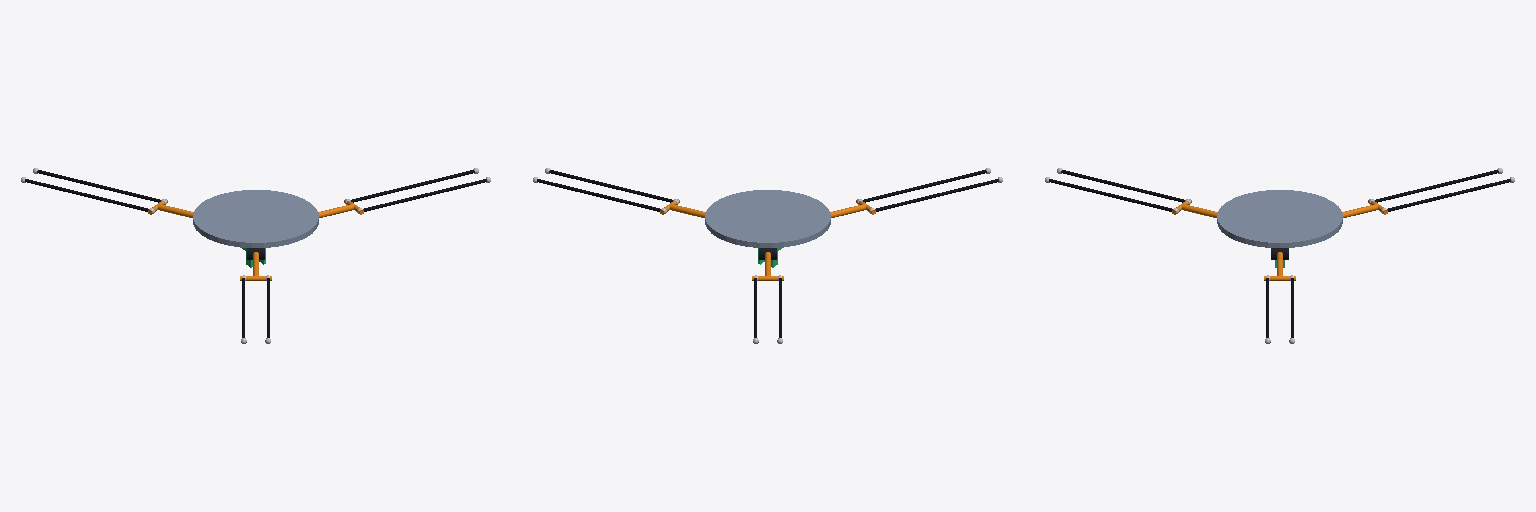
URDF robot description (delta_robot):
<?xml version="1.0"?>
<!-- generated by deltarobot.urdf — R=0.1 r=0.035 L=0.13 l=0.3 w=0.05 motor=dxl_xm430_w350 tool=gripper_servo -->
<robot name="delta_robot">
  <material name="frame"><color rgba="0.55 0.6 0.68 1"/></material>
  <material name="motor"><color rgba="0.15 0.17 0.2 1"/></material>
  <material name="arm"><color rgba="0.9 0.55 0.15 1"/></material>
  <material name="rod"><color rgba="0.12 0.12 0.14 1"/></material>
  <material name="joint"><color rgba="0.75 0.78 0.82 1"/></material>
  <material name="plate"><color rgba="0.25 0.55 0.9 1"/></material>
  <material name="tool"><color rgba="0.2 0.75 0.5 1"/></material>
  <link name="base_link">
    <visual>
      <origin xyz="0 0 0.026" rpy="0 0 0"/>
      <geometry><cylinder radius="0.128" length="0.012"/></geometry>
      <material name="frame"/>
    </visual>
    <visual>
      <origin xyz="0.1 0 0" rpy="1.570796 0 0"/>
      <geometry><cylinder radius="0.018" length="0.035"/></geometry>
      <material name="motor"/>
    </visual>
    <visual>
      <origin xyz="-0.05 0.086603 0" rpy="1.570796 0 2.094395"/>
      <geometry><cylinder radius="0.018" length="0.035"/></geometry>
      <material name="motor"/>
    </visual>
    <visual>
      <origin xyz="-0.05 -0.086603 0" rpy="1.570796 0 4.18879"/>
      <geometry><cylinder radius="0.018" length="0.035"/></geometry>
      <material name="motor"/>
    </visual>
    <inertial>
      <origin xyz="0 0 0.02" rpy="0 0 0"/>
      <mass value="0.746"/>
      <inertia ixx="0.01" ixy="0" ixz="0" iyy="0.01" iyz="0" izz="0.02"/>
    </inertial>
  </link>
  <joint name="motor1_joint" type="revolute">
    <parent link="base_link"/>
    <child link="upper_arm1"/>
    <origin xyz="0.1 0 0" rpy="0 0 0"/>
    <axis xyz="0 1 0"/>
    <limit lower="-0.7" upper="1.5" effort="4.1" velocity="4.8"/>
  </joint>
  <link name="upper_arm1">
    <visual>
      <origin xyz="0.065 0 0" rpy="0 1.570796 0"/>
      <geometry><cylinder radius="0.0065" length="0.13"/></geometry>
      <material name="arm"/>
    </visual>
    <visual>
      <origin xyz="0.13 0 0" rpy="1.570796 0 0"/>
      <geometry><cylinder radius="0.0052" length="0.063"/></geometry>
      <material name="arm"/>
    </visual>
    <inertial>
      <origin xyz="0.065 0 0" rpy="0 0 0"/>
      <mass value="0.04434"/>
      <inertia ixx="0.00001" ixy="0" ixz="0" iyy="0.000045" iyz="0" izz="0.000045"/>
    </inertial>
  </link>
  <joint name="elbow1a_pitch" type="revolute">
    <parent link="upper_arm1"/>
    <child link="elbow1a_link"/>
    <origin xyz="0.13 0.025 0" rpy="0 0 0"/>
    <axis xyz="0 1 0"/>
    <limit lower="-3.141593" upper="3.141593" effort="0" velocity="0"/>
  </joint>
  <link name="elbow1a_link"/>
  <joint name="elbow1a_yaw" type="revolute">
    <parent link="elbow1a_link"/>
    <child link="forearm1a"/>
    <origin xyz="0 0 0" rpy="0 0 0"/>
    <axis xyz="0 0 1"/>
    <limit lower="-1.570796" upper="1.570796" effort="0" velocity="0"/>
  </joint>
  <link name="forearm1a">
    <visual>
      <origin xyz="0.15 0 0" rpy="0 1.570796 0"/>
      <geometry><cylinder radius="0.0036" length="0.3"/></geometry>
      <material name="rod"/>
    </visual>
    <visual>
      <origin xyz="0 0 0" rpy="0 0 0"/>
      <geometry><sphere radius="0.00648"/></geometry>
      <material name="joint"/>
    </visual>
    <visual>
      <origin xyz="0.3 0 0" rpy="0 0 0"/>
      <geometry><sphere radius="0.00648"/></geometry>
      <material name="joint"/>
    </visual>
    <inertial>
      <origin xyz="0.15 0 0" rpy="0 0 0"/>
      <mass value="0.0215"/>
      <inertia ixx="0.000001" ixy="0" ixz="0" iyy="0.000161" iyz="0" izz="0.000161"/>
    </inertial>
  </link>
  <joint name="elbow1b_pitch" type="revolute">
    <parent link="upper_arm1"/>
    <child link="elbow1b_link"/>
    <origin xyz="0.13 -0.025 0" rpy="0 0 0"/>
    <axis xyz="0 1 0"/>
    <limit lower="-3.141593" upper="3.141593" effort="0" velocity="0"/>
    <mimic joint="elbow1a_pitch" multiplier="1" offset="0"/>
  </joint>
  <link name="elbow1b_link"/>
  <joint name="elbow1b_yaw" type="revolute">
    <parent link="elbow1b_link"/>
    <child link="forearm1b"/>
    <origin xyz="0 0 0" rpy="0 0 0"/>
    <axis xyz="0 0 1"/>
    <limit lower="-1.570796" upper="1.570796" effort="0" velocity="0"/>
    <mimic joint="elbow1a_yaw" multiplier="1" offset="0"/>
  </joint>
  <link name="forearm1b">
    <visual>
      <origin xyz="0.15 0 0" rpy="0 1.570796 0"/>
      <geometry><cylinder radius="0.0036" length="0.3"/></geometry>
      <material name="rod"/>
    </visual>
    <visual>
      <origin xyz="0 0 0" rpy="0 0 0"/>
      <geometry><sphere radius="0.00648"/></geometry>
      <material name="joint"/>
    </visual>
    <visual>
      <origin xyz="0.3 0 0" rpy="0 0 0"/>
      <geometry><sphere radius="0.00648"/></geometry>
      <material name="joint"/>
    </visual>
    <inertial>
      <origin xyz="0.15 0 0" rpy="0 0 0"/>
      <mass value="0.0215"/>
      <inertia ixx="0.000001" ixy="0" ixz="0" iyy="0.000161" iyz="0" izz="0.000161"/>
    </inertial>
  </link>
  <joint name="motor2_joint" type="revolute">
    <parent link="base_link"/>
    <child link="upper_arm2"/>
    <origin xyz="-0.05 0.086603 0" rpy="0 0 2.094395"/>
    <axis xyz="0 1 0"/>
    <limit lower="-0.7" upper="1.5" effort="4.1" velocity="4.8"/>
  </joint>
  <link name="upper_arm2">
    <visual>
      <origin xyz="0.065 0 0" rpy="0 1.570796 0"/>
      <geometry><cylinder radius="0.0065" length="0.13"/></geometry>
      <material name="arm"/>
    </visual>
    <visual>
      <origin xyz="0.13 0 0" rpy="1.570796 0 0"/>
      <geometry><cylinder radius="0.0052" length="0.063"/></geometry>
      <material name="arm"/>
    </visual>
    <inertial>
      <origin xyz="0.065 0 0" rpy="0 0 0"/>
      <mass value="0.04434"/>
      <inertia ixx="0.00001" ixy="0" ixz="0" iyy="0.000045" iyz="0" izz="0.000045"/>
    </inertial>
  </link>
  <joint name="elbow2a_pitch" type="revolute">
    <parent link="upper_arm2"/>
    <child link="elbow2a_link"/>
    <origin xyz="0.13 0.025 0" rpy="0 0 0"/>
    <axis xyz="0 1 0"/>
    <limit lower="-3.141593" upper="3.141593" effort="0" velocity="0"/>
  </joint>
  <link name="elbow2a_link"/>
  <joint name="elbow2a_yaw" type="revolute">
    <parent link="elbow2a_link"/>
    <child link="forearm2a"/>
    <origin xyz="0 0 0" rpy="0 0 0"/>
    <axis xyz="0 0 1"/>
    <limit lower="-1.570796" upper="1.570796" effort="0" velocity="0"/>
  </joint>
  <link name="forearm2a">
    <visual>
      <origin xyz="0.15 0 0" rpy="0 1.570796 0"/>
      <geometry><cylinder radius="0.0036" length="0.3"/></geometry>
      <material name="rod"/>
    </visual>
    <visual>
      <origin xyz="0 0 0" rpy="0 0 0"/>
      <geometry><sphere radius="0.00648"/></geometry>
      <material name="joint"/>
    </visual>
    <visual>
      <origin xyz="0.3 0 0" rpy="0 0 0"/>
      <geometry><sphere radius="0.00648"/></geometry>
      <material name="joint"/>
    </visual>
    <inertial>
      <origin xyz="0.15 0 0" rpy="0 0 0"/>
      <mass value="0.0215"/>
      <inertia ixx="0.000001" ixy="0" ixz="0" iyy="0.000161" iyz="0" izz="0.000161"/>
    </inertial>
  </link>
  <joint name="elbow2b_pitch" type="revolute">
    <parent link="upper_arm2"/>
    <child link="elbow2b_link"/>
    <origin xyz="0.13 -0.025 0" rpy="0 0 0"/>
    <axis xyz="0 1 0"/>
    <limit lower="-3.141593" upper="3.141593" effort="0" velocity="0"/>
    <mimic joint="elbow2a_pitch" multiplier="1" offset="0"/>
  </joint>
  <link name="elbow2b_link"/>
  <joint name="elbow2b_yaw" type="revolute">
    <parent link="elbow2b_link"/>
    <child link="forearm2b"/>
    <origin xyz="0 0 0" rpy="0 0 0"/>
    <axis xyz="0 0 1"/>
    <limit lower="-1.570796" upper="1.570796" effort="0" velocity="0"/>
    <mimic joint="elbow2a_yaw" multiplier="1" offset="0"/>
  </joint>
  <link name="forearm2b">
    <visual>
      <origin xyz="0.15 0 0" rpy="0 1.570796 0"/>
      <geometry><cylinder radius="0.0036" length="0.3"/></geometry>
      <material name="rod"/>
    </visual>
    <visual>
      <origin xyz="0 0 0" rpy="0 0 0"/>
      <geometry><sphere radius="0.00648"/></geometry>
      <material name="joint"/>
    </visual>
    <visual>
      <origin xyz="0.3 0 0" rpy="0 0 0"/>
      <geometry><sphere radius="0.00648"/></geometry>
      <material name="joint"/>
    </visual>
    <inertial>
      <origin xyz="0.15 0 0" rpy="0 0 0"/>
      <mass value="0.0215"/>
      <inertia ixx="0.000001" ixy="0" ixz="0" iyy="0.000161" iyz="0" izz="0.000161"/>
    </inertial>
  </link>
  <joint name="motor3_joint" type="revolute">
    <parent link="base_link"/>
    <child link="upper_arm3"/>
    <origin xyz="-0.05 -0.086603 0" rpy="0 0 4.18879"/>
    <axis xyz="0 1 0"/>
    <limit lower="-0.7" upper="1.5" effort="4.1" velocity="4.8"/>
  </joint>
  <link name="upper_arm3">
    <visual>
      <origin xyz="0.065 0 0" rpy="0 1.570796 0"/>
      <geometry><cylinder radius="0.0065" length="0.13"/></geometry>
      <material name="arm"/>
    </visual>
    <visual>
      <origin xyz="0.13 0 0" rpy="1.570796 0 0"/>
      <geometry><cylinder radius="0.0052" length="0.063"/></geometry>
      <material name="arm"/>
    </visual>
    <inertial>
      <origin xyz="0.065 0 0" rpy="0 0 0"/>
      <mass value="0.04434"/>
      <inertia ixx="0.00001" ixy="0" ixz="0" iyy="0.000045" iyz="0" izz="0.000045"/>
    </inertial>
  </link>
  <joint name="elbow3a_pitch" type="revolute">
    <parent link="upper_arm3"/>
    <child link="elbow3a_link"/>
    <origin xyz="0.13 0.025 0" rpy="0 0 0"/>
    <axis xyz="0 1 0"/>
    <limit lower="-3.141593" upper="3.141593" effort="0" velocity="0"/>
  </joint>
  <link name="elbow3a_link"/>
  <joint name="elbow3a_yaw" type="revolute">
    <parent link="elbow3a_link"/>
    <child link="forearm3a"/>
    <origin xyz="0 0 0" rpy="0 0 0"/>
    <axis xyz="0 0 1"/>
    <limit lower="-1.570796" upper="1.570796" effort="0" velocity="0"/>
  </joint>
  <link name="forearm3a">
    <visual>
      <origin xyz="0.15 0 0" rpy="0 1.570796 0"/>
      <geometry><cylinder radius="0.0036" length="0.3"/></geometry>
      <material name="rod"/>
    </visual>
    <visual>
      <origin xyz="0 0 0" rpy="0 0 0"/>
      <geometry><sphere radius="0.00648"/></geometry>
      <material name="joint"/>
    </visual>
    <visual>
      <origin xyz="0.3 0 0" rpy="0 0 0"/>
      <geometry><sphere radius="0.00648"/></geometry>
      <material name="joint"/>
    </visual>
    <inertial>
      <origin xyz="0.15 0 0" rpy="0 0 0"/>
      <mass value="0.0215"/>
      <inertia ixx="0.000001" ixy="0" ixz="0" iyy="0.000161" iyz="0" izz="0.000161"/>
    </inertial>
  </link>
  <joint name="elbow3b_pitch" type="revolute">
    <parent link="upper_arm3"/>
    <child link="elbow3b_link"/>
    <origin xyz="0.13 -0.025 0" rpy="0 0 0"/>
    <axis xyz="0 1 0"/>
    <limit lower="-3.141593" upper="3.141593" effort="0" velocity="0"/>
    <mimic joint="elbow3a_pitch" multiplier="1" offset="0"/>
  </joint>
  <link name="elbow3b_link"/>
  <joint name="elbow3b_yaw" type="revolute">
    <parent link="elbow3b_link"/>
    <child link="forearm3b"/>
    <origin xyz="0 0 0" rpy="0 0 0"/>
    <axis xyz="0 0 1"/>
    <limit lower="-1.570796" upper="1.570796" effort="0" velocity="0"/>
    <mimic joint="elbow3a_yaw" multiplier="1" offset="0"/>
  </joint>
  <link name="forearm3b">
    <visual>
      <origin xyz="0.15 0 0" rpy="0 1.570796 0"/>
      <geometry><cylinder radius="0.0036" length="0.3"/></geometry>
      <material name="rod"/>
    </visual>
    <visual>
      <origin xyz="0 0 0" rpy="0 0 0"/>
      <geometry><sphere radius="0.00648"/></geometry>
      <material name="joint"/>
    </visual>
    <visual>
      <origin xyz="0.3 0 0" rpy="0 0 0"/>
      <geometry><sphere radius="0.00648"/></geometry>
      <material name="joint"/>
    </visual>
    <inertial>
      <origin xyz="0.15 0 0" rpy="0 0 0"/>
      <mass value="0.0215"/>
      <inertia ixx="0.000001" ixy="0" ixz="0" iyy="0.000161" iyz="0" izz="0.000161"/>
    </inertial>
  </link>
  <joint name="effector_x" type="prismatic">
    <parent link="base_link"/>
    <child link="effector_x_link"/>
    <origin xyz="0 0 0" rpy="0 0 0"/>
    <axis xyz="1 0 0"/>
    <limit lower="-0.495" upper="0.495" effort="0" velocity="0"/>
  </joint>
  <link name="effector_x_link"/>
  <joint name="effector_y" type="prismatic">
    <parent link="effector_x_link"/>
    <child link="effector_y_link"/>
    <origin xyz="0 0 0" rpy="0 0 0"/>
    <axis xyz="0 1 0"/>
    <limit lower="-0.495" upper="0.495" effort="0" velocity="0"/>
  </joint>
  <link name="effector_y_link"/>
  <joint name="effector_z" type="prismatic">
    <parent link="effector_y_link"/>
    <child link="effector"/>
    <origin xyz="0 0 0" rpy="0 0 0"/>
    <axis xyz="0 0 1"/>
    <limit lower="-0.43" upper="0" effort="0" velocity="0"/>
  </joint>
  <link name="effector">
    <visual>
      <origin xyz="0 0 0" rpy="0 0 0"/>
      <geometry><cylinder radius="0.047" length="0.01"/></geometry>
      <material name="plate"/>
    </visual>
    <inertial>
      <origin xyz="0 0 0" rpy="0 0 0"/>
      <mass value="0.06"/>
      <inertia ixx="0.0001" ixy="0" ixz="0" iyy="0.0001" iyz="0" izz="0.0002"/>
    </inertial>
  </link>
  <joint name="tool_joint" type="fixed">
    <parent link="effector"/>
    <child link="tool_link"/>
    <origin xyz="0 0 -0.005" rpy="0 0 0"/>
  </joint>
  <link name="tool_link">
    <visual>
      <origin xyz="0 0 -0.015" rpy="0 0 0"/>
      <geometry><box size="0.06 0.03 0.03"/></geometry>
      <material name="tool"/>
    </visual>
    <inertial>
      <origin xyz="0 0 -0.035" rpy="0 0 0"/>
      <mass value="0.12"/>
      <inertia ixx="0.00001" ixy="0" ixz="0" iyy="0.00001" iyz="0" izz="0.00001"/>
    </inertial>
  </link>
  <joint name="gripper_finger_a" type="prismatic">
    <parent link="tool_link"/>
    <child link="gripper_finger_a_link"/>
    <origin xyz="0.015 0 0" rpy="0 0 0"/>
    <axis xyz="1 0 0"/>
    <limit lower="-0.006" upper="0" effort="15" velocity="0.05"/>
  </joint>
  <link name="gripper_finger_a_link">
    <visual>
      <origin xyz="0 0 -0.05" rpy="0 0 0"/>
      <geometry><box size="0.006 0.02 0.04"/></geometry>
      <material name="tool"/>
    </visual>
    <inertial>
      <origin xyz="0 0 -0.05" rpy="0 0 0"/>
      <mass value="0.01"/>
      <inertia ixx="0.000001" ixy="0" ixz="0" iyy="0.000001" iyz="0" izz="0.000001"/>
    </inertial>
  </link>
  <joint name="gripper_finger_b" type="prismatic">
    <parent link="tool_link"/>
    <child link="gripper_finger_b_link"/>
    <origin xyz="-0.015 0 0" rpy="0 0 0"/>
    <axis xyz="-1 0 0"/>
    <limit lower="-0.006" upper="0" effort="15" velocity="0.05"/>
    <mimic joint="gripper_finger_a" multiplier="1" offset="0"/>
  </joint>
  <link name="gripper_finger_b_link">
    <visual>
      <origin xyz="0 0 -0.05" rpy="0 0 0"/>
      <geometry><box size="0.006 0.02 0.04"/></geometry>
      <material name="tool"/>
    </visual>
    <inertial>
      <origin xyz="0 0 -0.05" rpy="0 0 0"/>
      <mass value="0.01"/>
      <inertia ixx="0.000001" ixy="0" ixz="0" iyy="0.000001" iyz="0" izz="0.000001"/>
    </inertial>
  </link>
  <joint name="tcp_joint" type="fixed">
    <parent link="tool_link"/>
    <child link="tcp"/>
    <origin xyz="0 0 -0.065" rpy="0 0 0"/>
  </joint>
  <link name="tcp"/>
</robot>

--- Facts derived from the render (not from the file) ---
Views: 3 orthographic renders of the robot side by side, from view 1: azimuth 30°, elevation 25°; view 2: azimuth 150°, elevation 25°; view 3: azimuth 270°, elevation 25°.
Model delta_robot with 23 links and 22 joints (15 revolute, 5 prismatic, 2 fixed), rooted at base_link, posed all joints at 0.
Visible links, largest first — view 1: base_link; view 2: base_link; view 3: base_link.
Link boxes in pixels (left/top/right/bottom): base_link: left=193, top=190, right=318, bottom=259; base_link: left=705, top=190, right=830, bottom=259; base_link: left=1217, top=190, right=1342, bottom=259.
Size in the robot's own frame: 0.8296 by 0.9559 by 0.107 metres.
Geometry: primitives only (box / cylinder / sphere), no mesh files.
